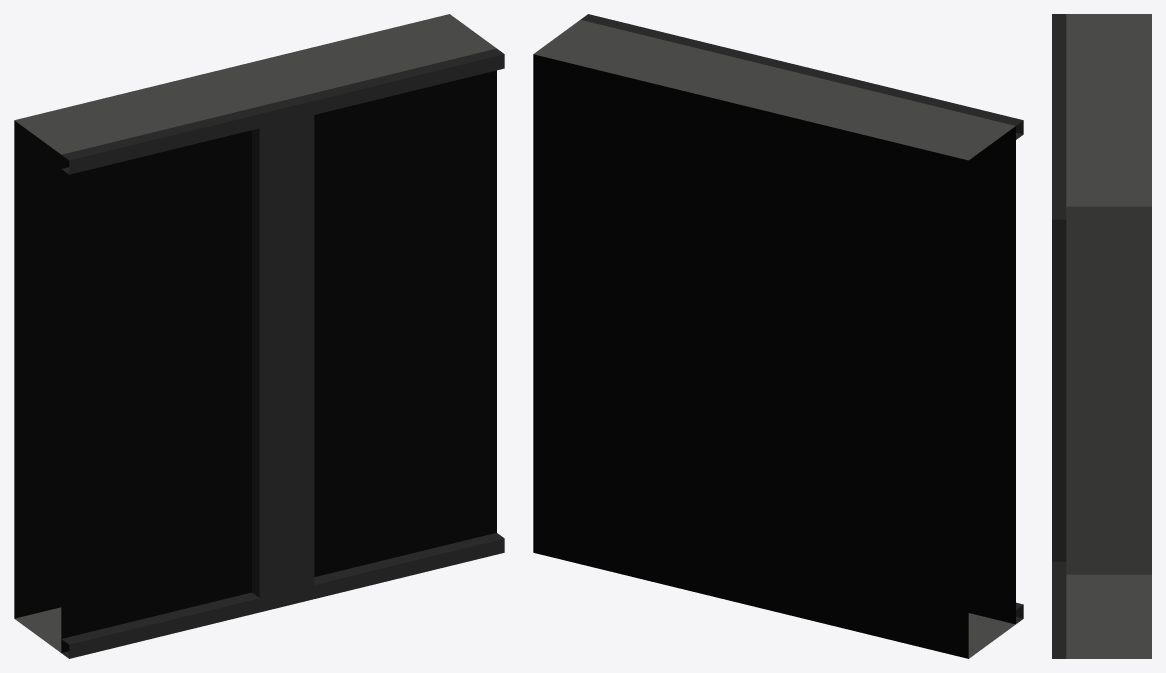
File: beijing_sign_2_onwall.obj
3 renders of one model, left to right at view 1: azimuth 30°, elevation 25°; view 2: azimuth 150°, elevation 25°; view 3: azimuth 270°, elevation 25°, orthographic. The views are drawn at different scales.
Visible parts, largest first — view 1: main, sideb, sidea; view 2: main, sideb; view 3: sidea, main.
Part boxes in pixels (x1,y1,x2,y2): main: (14,14,504,658); sideb: (252,103,286,612); sidea: (256,62,314,605); main: (533,14,1023,658); sideb: (752,71,828,113); sidea: (1052,110,1151,574); main: (1052,14,1151,658).
Size of the model in its own units: 0.5 by 0.5469 by 0.1094.
